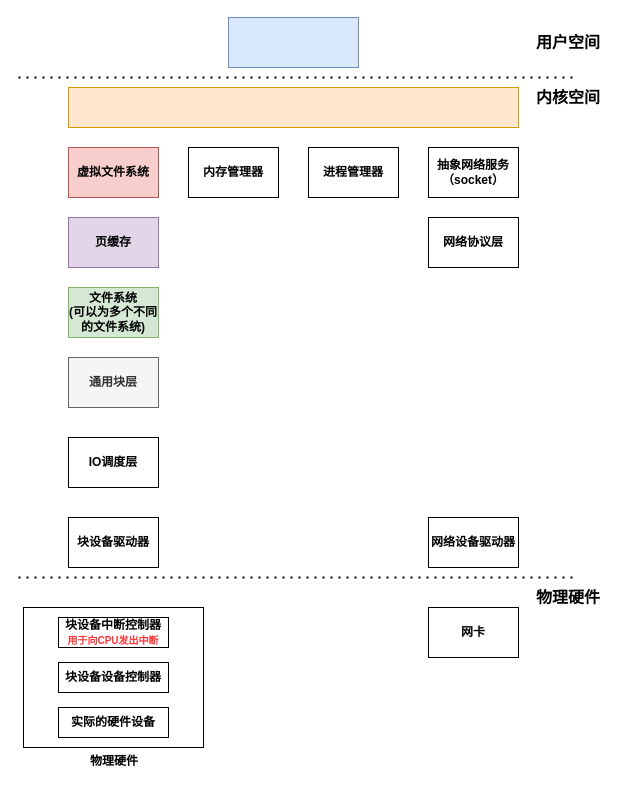
This 635x795 diagram has some shape labels left out. Each missing label, with the box of its shape:
应用程序: (228, 16, 358, 68)
系统调用接口: (68, 86, 518, 128)
